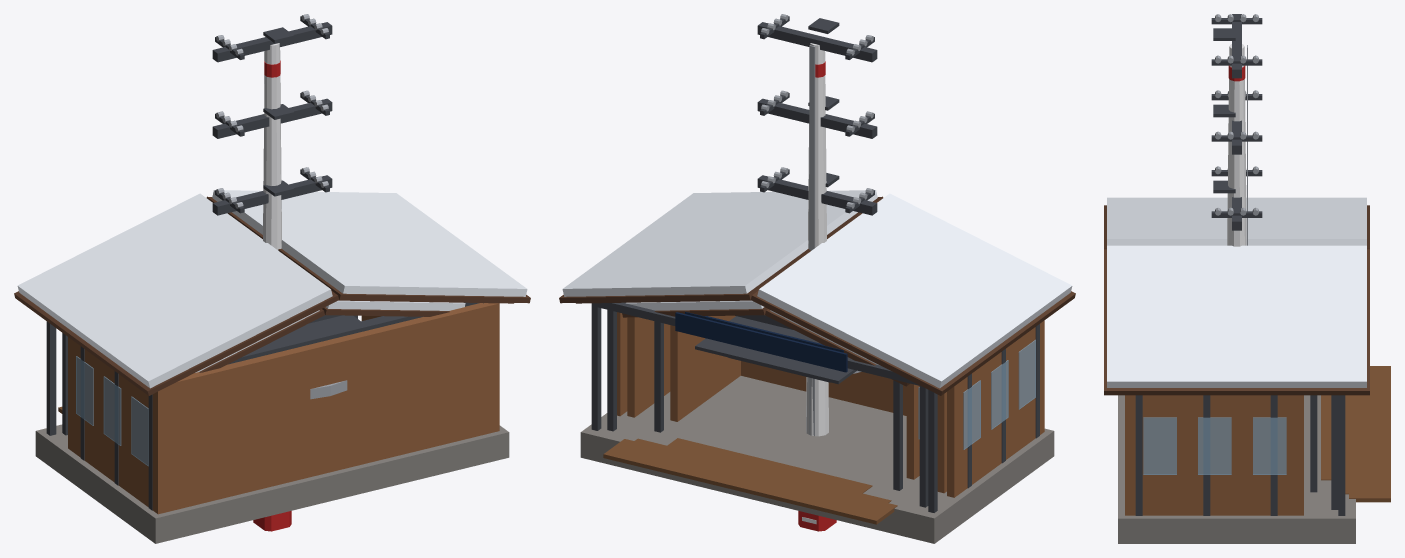
The model's file is SV_Gondola.fbx.
The picture shows the model from 3 angles, left to right: view 1: azimuth 30°, elevation 25°; view 2: azimuth 150°, elevation 25°; view 3: azimuth 270°, elevation 25°; orthographic projection.
Visible parts, largest first — view 1: SVA_StationValley_Planks, SVA_StationValley_Snow, SVA_StationValley_StoneBlock, SVA_StationValley_Shingle, SVA_StationValley_Metal, SVA_StationValley_WindowCool, SVA_Pylon32_PaintWhite, SVA_Pylon32_Metal, SVA_StationTop_Metal, SVA_Pylon26_Metal, SVA_StationMid_Shingle, SVA_Pylon20_Metal (+1 smaller); view 2: SVA_StationValley_Snow, SVA_StationValley_StoneBlock, SVA_StationTop_StoneBlock, SVA_StationValley_Planks, SVA_StationMid_Planks, SVA_StationValley_Metal, SVA_StationValley_Wood, SVA_StationValley_Shingle, SVA_StationTop_Planks, SVA_StationTop_Metal, SVA_StationTop_Wood, SVA_StationValley_SignBoard (+13 smaller); view 3: SVA_StationValley_Snow, SVA_StationValley_Planks, SVA_StationValley_StoneBlock, SVA_StationValley_WindowCool, SVA_StationValley_Metal, SVA_StationValley_Shingle, SVA_StationValley_Wood, SVA_StationTop_Wood, SVA_Pylon32_PaintWhite, SVA_StationMid_Wood, SVA_Pylon32_Metal, SVA_Pylon26_Metal (+5 smaller).
Part boxes in pixels (bbox=[...]): SVA_StationValley_Planks: bbox=[68, 303, 499, 514]; SVA_StationValley_Snow: bbox=[17, 190, 527, 388]; SVA_StationValley_StoneBlock: bbox=[35, 424, 509, 543]; SVA_StationValley_Shingle: bbox=[14, 196, 530, 395]; SVA_StationValley_Metal: bbox=[46, 302, 483, 510]; SVA_StationValley_WindowCool: bbox=[76, 356, 148, 466]; SVA_Pylon32_PaintWhite: bbox=[263, 43, 281, 250]; SVA_Pylon32_Metal: bbox=[212, 16, 332, 62]; SVA_StationTop_Metal: bbox=[62, 315, 394, 435]; SVA_Pylon26_Metal: bbox=[212, 92, 332, 138]; SVA_StationMid_Shingle: bbox=[199, 307, 449, 372]; SVA_Pylon20_Metal: bbox=[212, 169, 332, 215]; SVA_StationValley_Snow: bbox=[562, 190, 1072, 388]; SVA_StationValley_StoneBlock: bbox=[580, 385, 1054, 543]; SVA_StationTop_StoneBlock: bbox=[599, 376, 906, 464]; SVA_StationValley_Planks: bbox=[617, 312, 1044, 497]; SVA_StationMid_Planks: bbox=[670, 315, 919, 479]; SVA_StationValley_Metal: bbox=[591, 302, 1039, 512]; SVA_StationValley_Wood: bbox=[603, 439, 897, 524]; SVA_StationValley_Shingle: bbox=[559, 196, 1075, 395]; SVA_StationTop_Planks: bbox=[627, 317, 946, 493]; SVA_StationTop_Metal: bbox=[607, 302, 928, 507]; SVA_StationTop_Wood: bbox=[634, 438, 891, 509]; SVA_StationValley_SignBoard: bbox=[675, 312, 847, 372]; SVA_StationValley_Snow: bbox=[1107, 197, 1366, 387]; SVA_StationValley_Planks: bbox=[1125, 395, 1303, 515]; SVA_StationValley_StoneBlock: bbox=[1118, 395, 1355, 543]; SVA_StationValley_WindowCool: bbox=[1143, 417, 1286, 474]; SVA_StationValley_Metal: bbox=[1135, 395, 1345, 515]; SVA_StationValley_Shingle: bbox=[1104, 205, 1369, 395]; SVA_StationValley_Wood: bbox=[1349, 366, 1390, 502]; SVA_StationTop_Wood: bbox=[1345, 399, 1383, 494]; SVA_Pylon32_PaintWhite: bbox=[1227, 44, 1246, 246]; SVA_StationMid_Wood: bbox=[1321, 395, 1362, 480]; SVA_Pylon32_Metal: bbox=[1211, 14, 1262, 78]; SVA_Pylon26_Metal: bbox=[1211, 94, 1262, 154].
Bounding box in the file's own units: 112 × 138 × 73.21.
